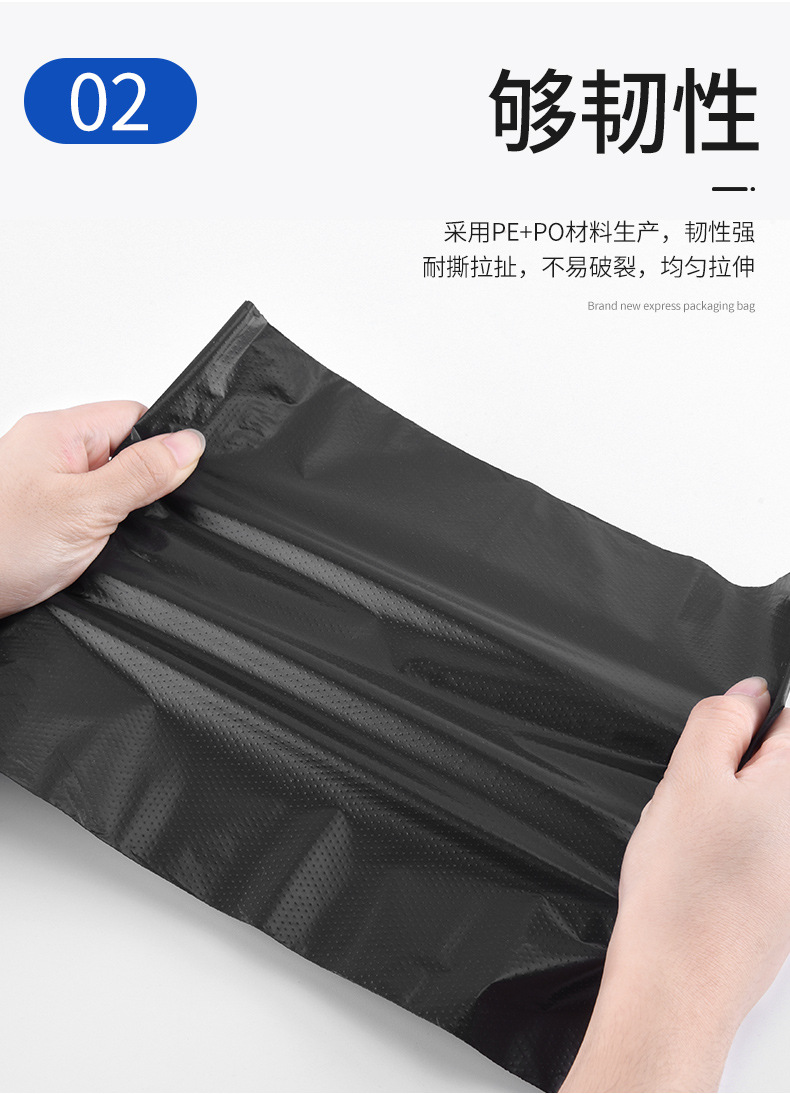塑料袋: (0, 303, 790, 1082)
